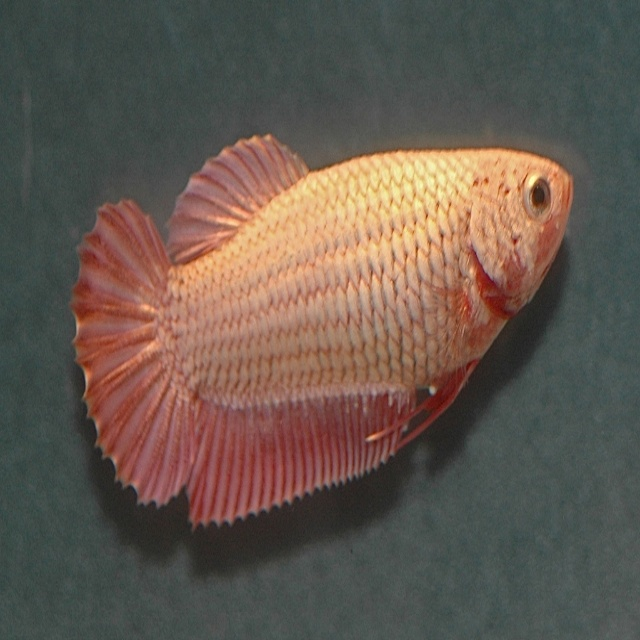Fish: (26, 141, 582, 564)
